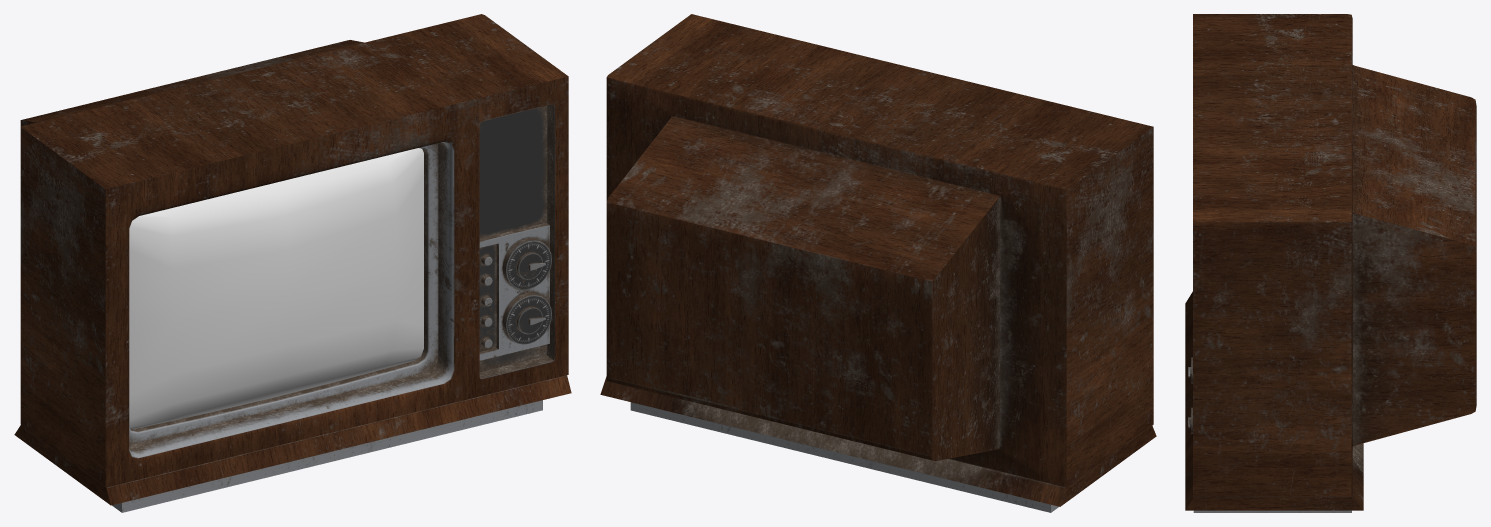
File: Television.fbx
3 views of the same model, side by side, from view 1: azimuth 30°, elevation 25°; view 2: azimuth 150°, elevation 25°; view 3: azimuth 270°, elevation 25° (orthographic). The views are drawn at different scales.
Visible parts, largest first — view 1: TV, TV.001; view 2: TV; view 3: TV.
Boxes of the visible parts, x1,y1,x2,y2 form: TV: (14, 14, 571, 512); TV.001: (129, 148, 423, 429); TV: (600, 14, 1156, 512); TV: (1185, 14, 1476, 512).
Bounding box in the file's own units: 31.64 × 21.42 × 18.7.
2 materials, 1 textured.
